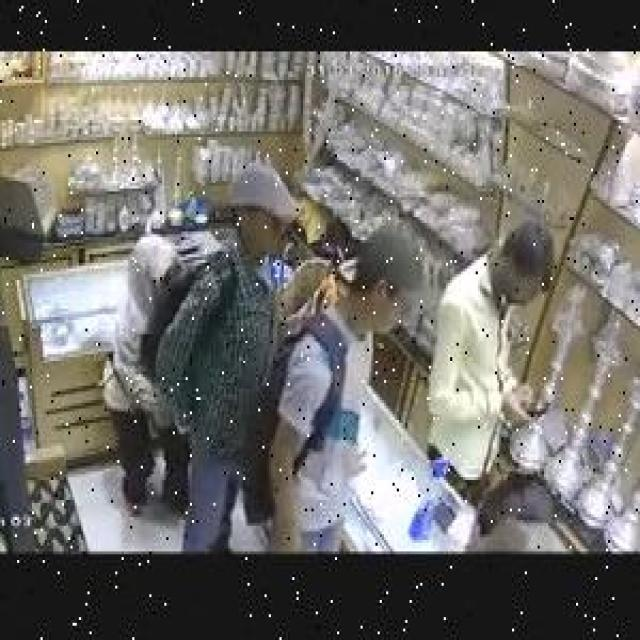Shoplifting: (100, 150, 433, 546)
